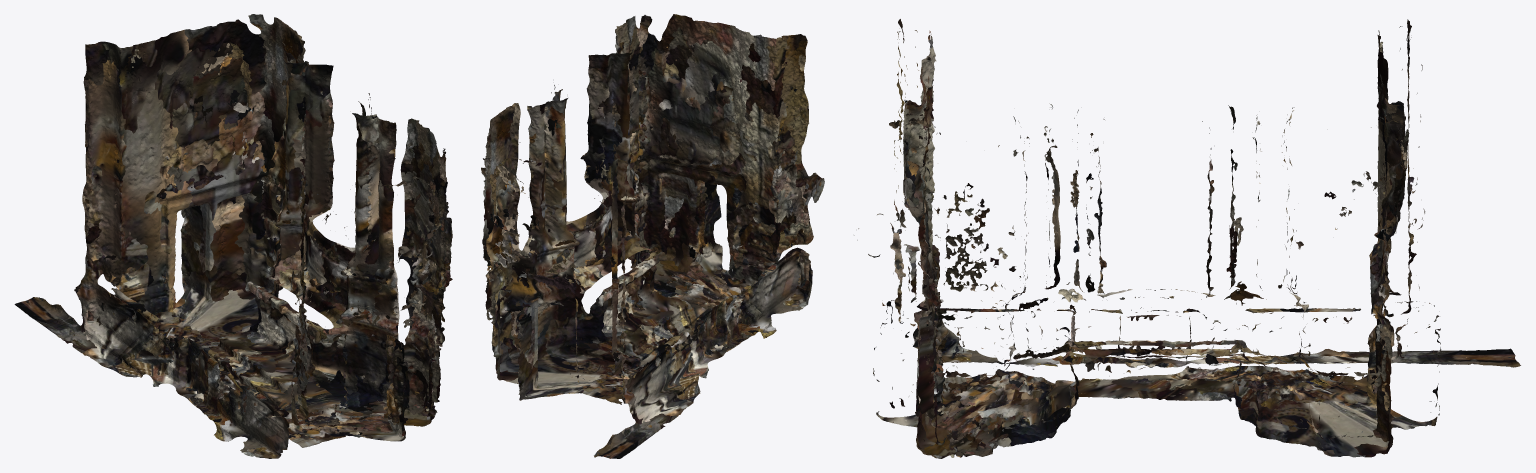
The model's file is preview.glb.
3 views of the same model, side by side, from view 1: azimuth 30°, elevation 25°; view 2: azimuth 150°, elevation 25°; view 3: azimuth 270°, elevation 25° (orthographic). The views are drawn at different scales.
Bounding box in the file's own units: 4.69 × 6.11 × 10.29.
1 material, 1 textured.
